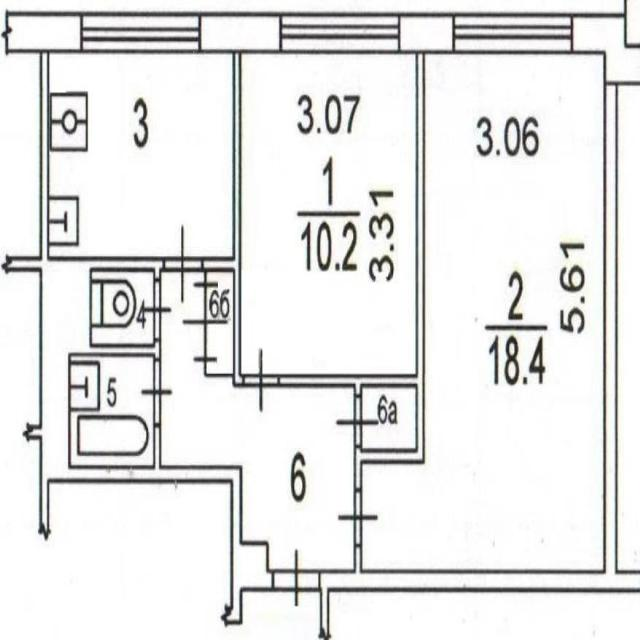Bathrooms: (70, 356, 153, 466), (91, 271, 153, 343)
Corridors: (161, 271, 354, 571), (362, 389, 415, 447), (207, 273, 233, 374)
Doors: (181, 280, 228, 365), (164, 222, 203, 308), (273, 546, 320, 613), (336, 489, 380, 547), (243, 347, 279, 414), (335, 395, 380, 447), (139, 360, 173, 427), (144, 279, 173, 342)
LBwalls: (320, 84, 640, 593), (40, 258, 91, 481), (571, 12, 640, 84), (2, 11, 80, 54), (200, 13, 281, 51), (399, 12, 454, 54), (232, 540, 267, 591), (267, 570, 273, 591)
Offices: (363, 55, 604, 572), (242, 54, 416, 375), (49, 54, 233, 257)
Walls: (278, 54, 426, 490), (70, 426, 243, 542), (202, 52, 245, 388), (40, 51, 49, 259), (90, 258, 165, 279), (91, 339, 161, 360), (218, 591, 242, 629), (39, 481, 50, 542), (2, 256, 41, 273), (321, 591, 330, 640), (22, 425, 41, 440), (354, 545, 362, 572)
Windows: (80, 11, 201, 54), (280, 12, 400, 52), (454, 13, 572, 52)
